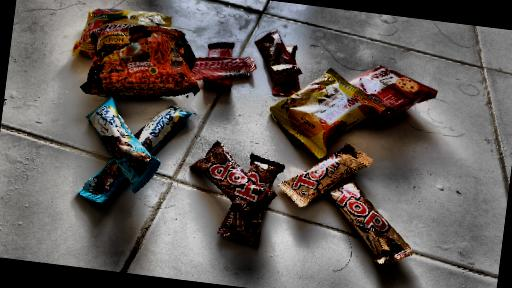chocho: (245, 34, 304, 100), (175, 48, 258, 87), (202, 41, 239, 85)
dilan: (94, 91, 195, 222), (67, 91, 170, 197)
indomie: (74, 1, 176, 61)
mie sedap: (80, 21, 208, 106)
momotaro: (267, 62, 382, 161), (343, 59, 435, 129)
top: (313, 174, 420, 274), (184, 136, 279, 223), (271, 137, 372, 212), (217, 147, 283, 255)
